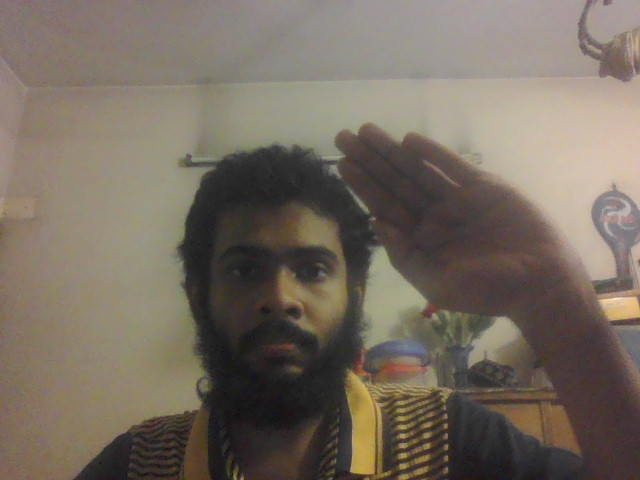Hello: (335, 123, 591, 316)
